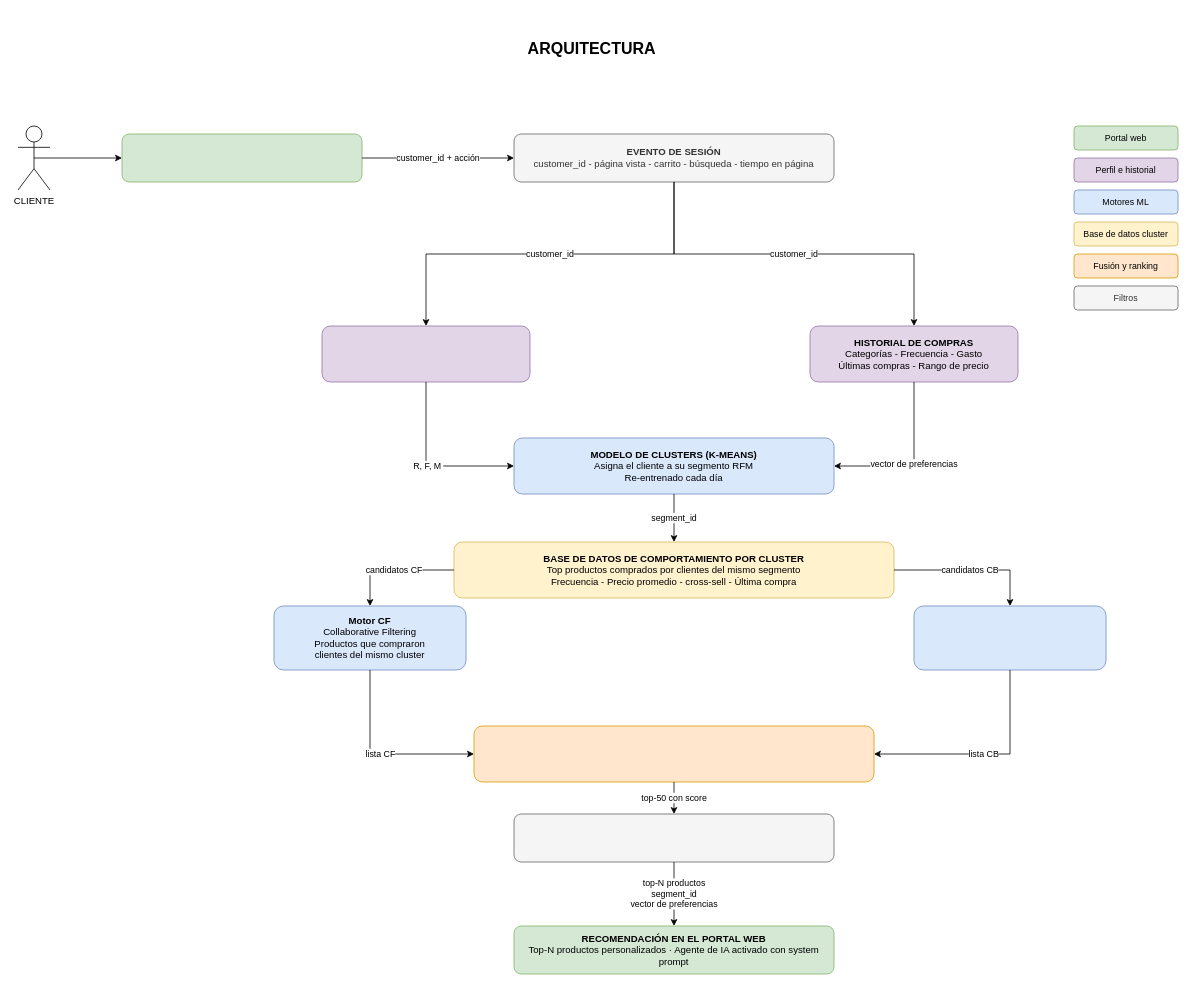
This 1192x988 diagram has some shape labels left out. The centre of each missing label's shape, as x and y in pixels:
"FILTROS DE NEGOCIO Stock disponible - Carrito actual" goes at point 673,837.
"HYBRID RANKER Clientes Fieles: CF 70% + CB 30% - En Riesgo: CF 30% + CB 70%" goes at point 673,753.
"Motor CB Content-Based Filtering Productos similares al historial del cliente" goes at point 1009,637.
"PERFIL RFM DEL CLIENTE Cache - Segmento Recency - Frequency - Monetary" goes at point 425,353.
"PORTAL WEB Captura sesión activa del cliente" goes at point 241,157.
